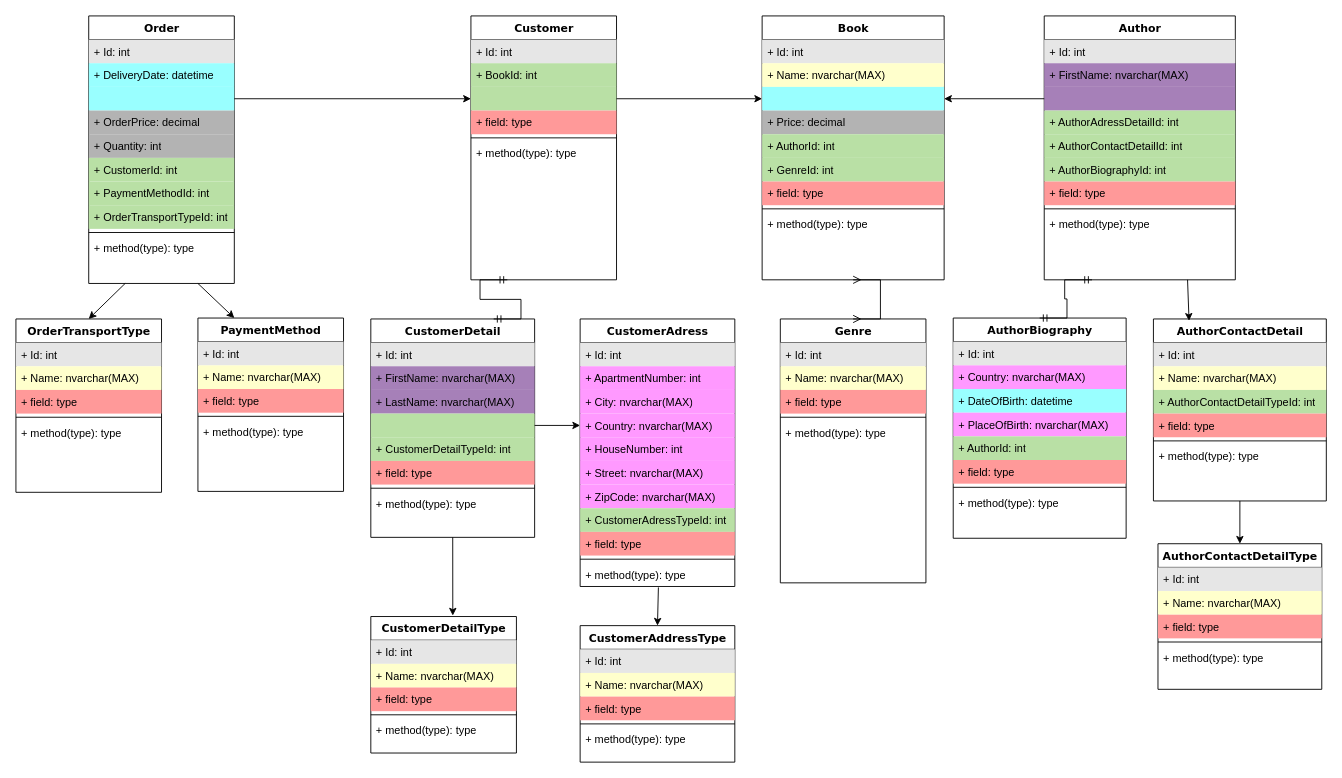
This 1342x778 diagram has some shape labels left out. Each missing label, with the centre of its shape:
"+ CustomerAdressId: int" goes at point 452,425.
"+ CustomerDetailId: int" goes at point 543,98.
"+ OrderDate: datetime" goes at point 161,98.
"+ PublishedBookDate: datetime" goes at point 853,98.
"+LastName: nvarchar(MAX)" goes at point 1139,98.
